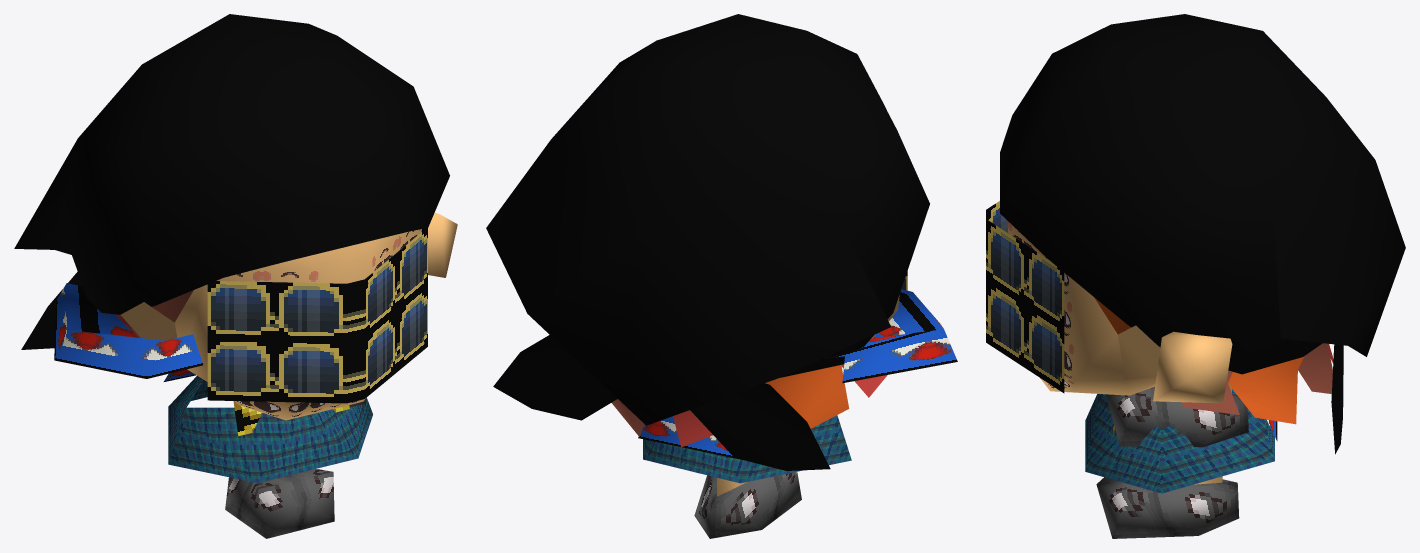
The picture shows the model from 3 angles, left to right: view 1: azimuth 30°, elevation 25°; view 2: azimuth 150°, elevation 25°; view 3: azimuth 270°, elevation 25°; orthographic projection. The views are drawn at different scales.
Parts seen in each view (by area): view 1: pmd66_03_01; view 2: pmd66_03_01; view 3: pmd66_03_01.
Boxes of the visible parts, box(x1,y1,x2,y2) form: pmd66_03_01: box(14, 14, 457, 538); pmd66_03_01: box(486, 14, 957, 538); pmd66_03_01: box(986, 14, 1405, 538).
Bounding box in the file's own units: 1.22 × 1.33 × 1.04.
Materials: 9 (9 with a texture image).
